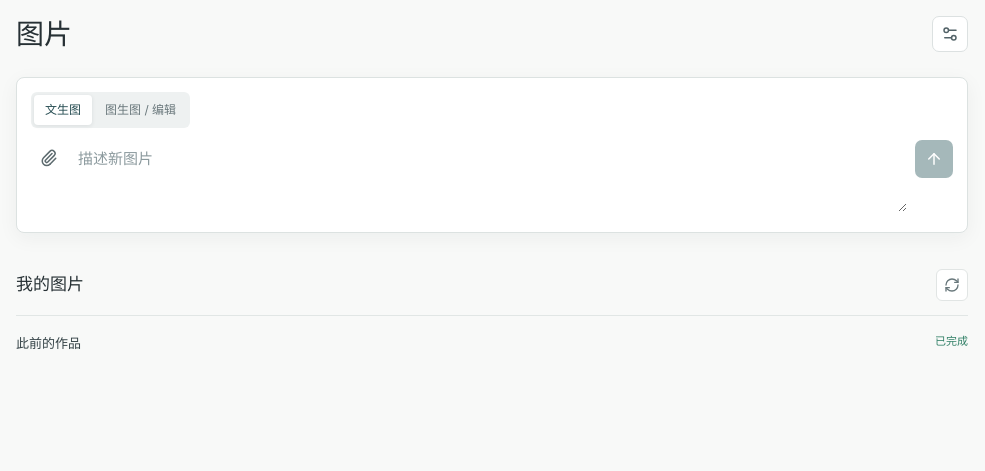
Test: ImageGenerationWorkbench › 直接请求失败时只更新当前生成项，保留已恢复的历史批次
This screenshot has width=985, height=471.
Expected: the text "此前的作品" is shown, [16,333,81,353]
In the text box named "图片描述": {"x": 491, "y": 176} [75,140,907,212], type "失败请求"
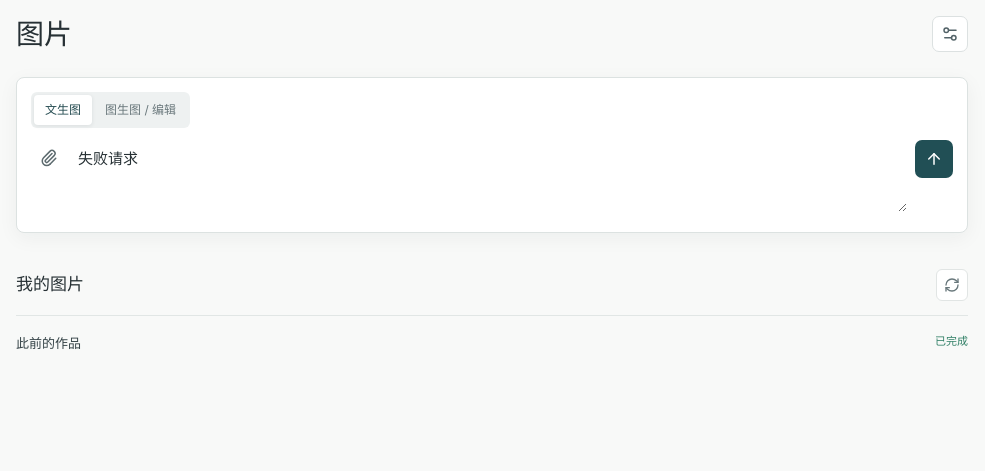
Click the button named "生成": {"x": 934, "y": 159} [915,140,953,178]
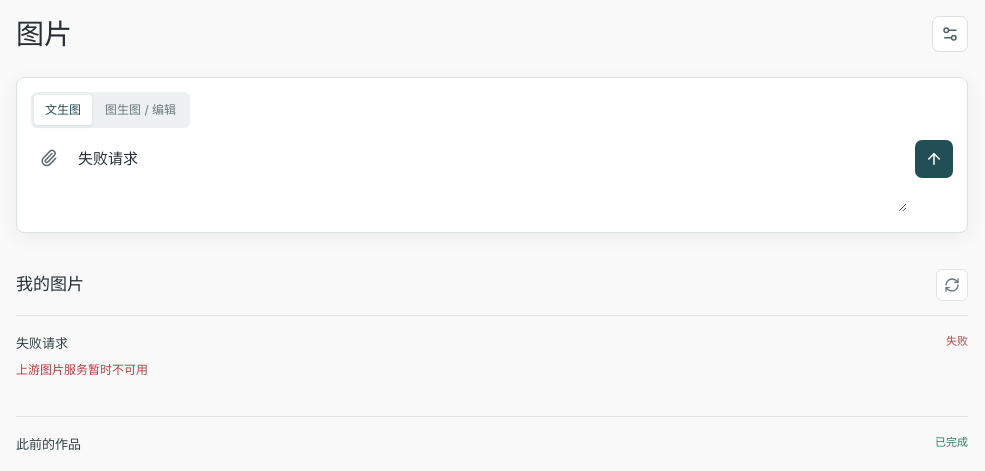
Expected: the text "此前的作品" is shown, [16,434,81,454]
Expected: the text "上游图片服务暂时不可用" is shown, [16,362,148,377]
